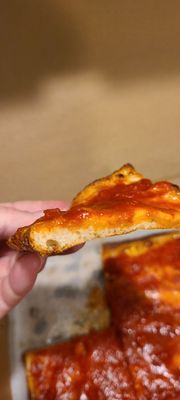sandwich: (24, 231, 180, 400), (6, 162, 180, 257)
